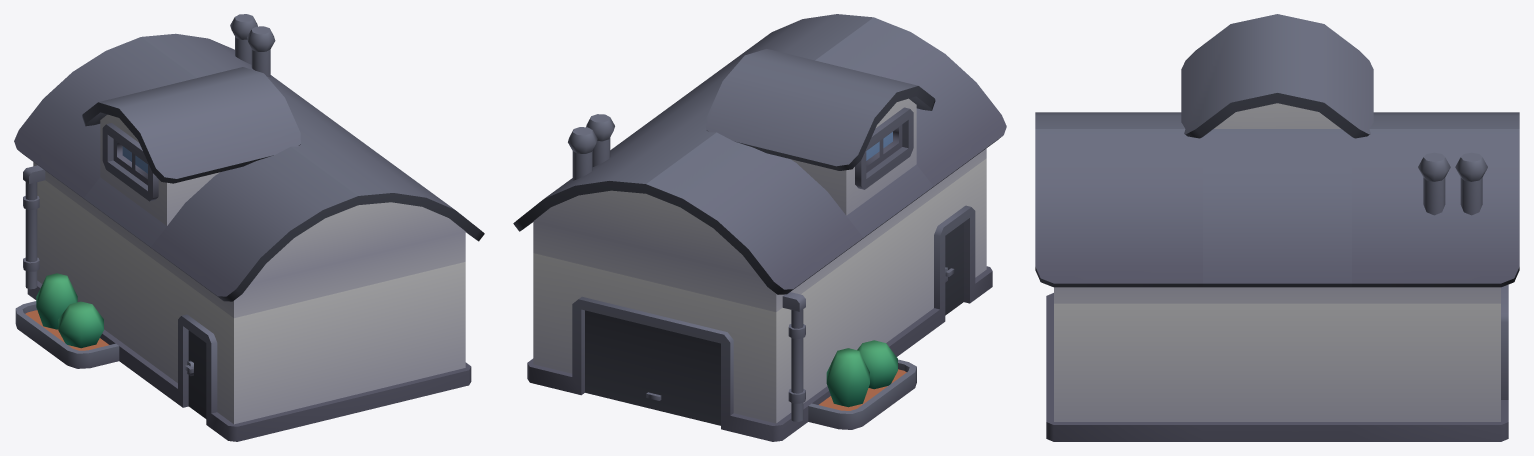
File: industrial-building-j.glb
The picture shows the model from 3 angles, left to right: view 1: azimuth 30°, elevation 25°; view 2: azimuth 150°, elevation 25°; view 3: azimuth 270°, elevation 25°; orthographic projection. The views are drawn at different scales.
Parts seen in each view (by area): view 1: building-j; view 2: building-j; view 3: building-j.
Part boxes in pixels (x1,y1,x2,y2): building-j: (14, 14, 484, 441); building-j: (513, 14, 1006, 441); building-j: (1035, 14, 1519, 441).
Bounding box in the file's own units: 1.03 × 0.8611 × 1.3.
